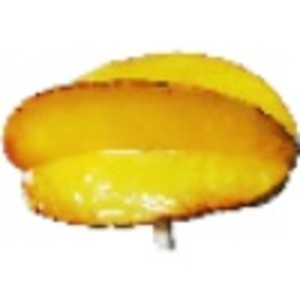carambola: (1, 48, 300, 247)
